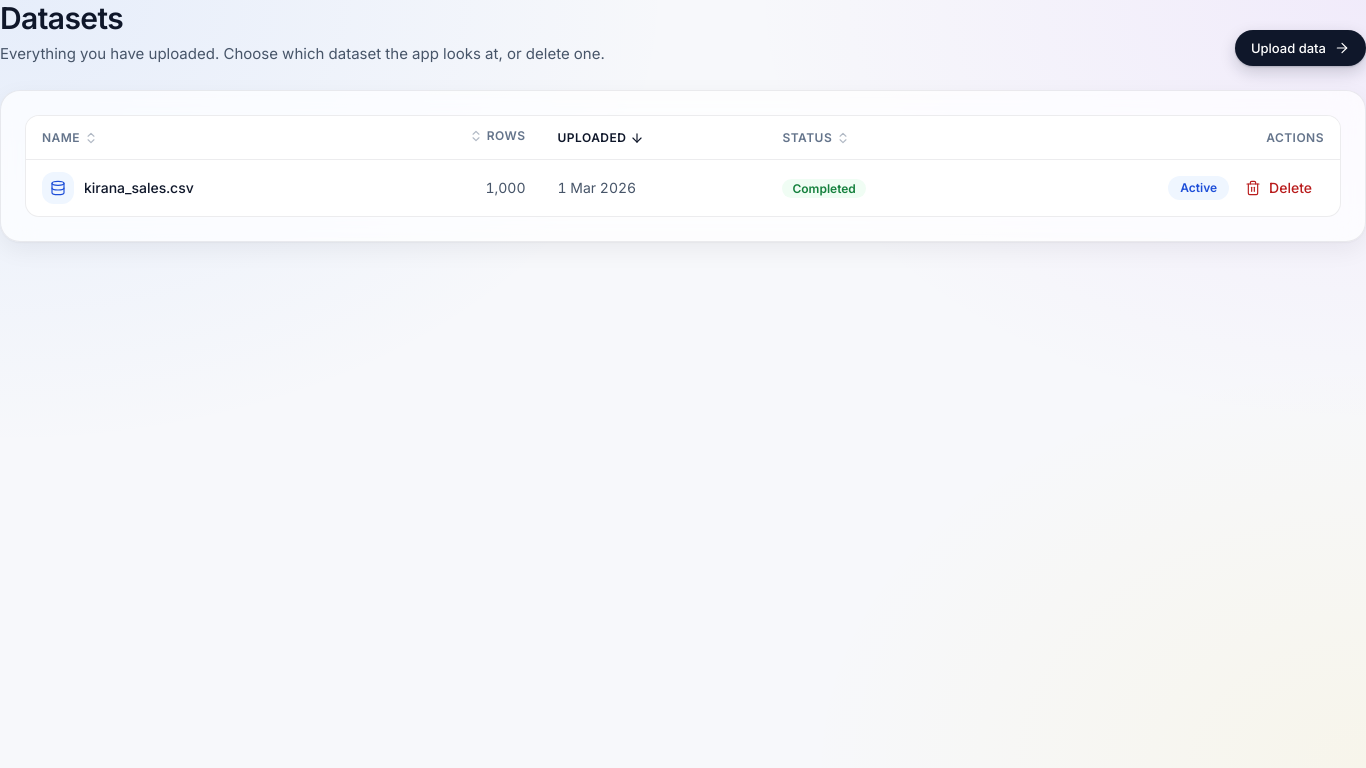
Test: Datasets › Delete: the confirm dialog names the dataset and says its model goes too; Cancel deletes nothing
This screenshot has width=1366, height=768.
Click the button with aria-label "Delete kirana_sales.csv". click: (1279,188)
box: [1233, 172, 1324, 204]
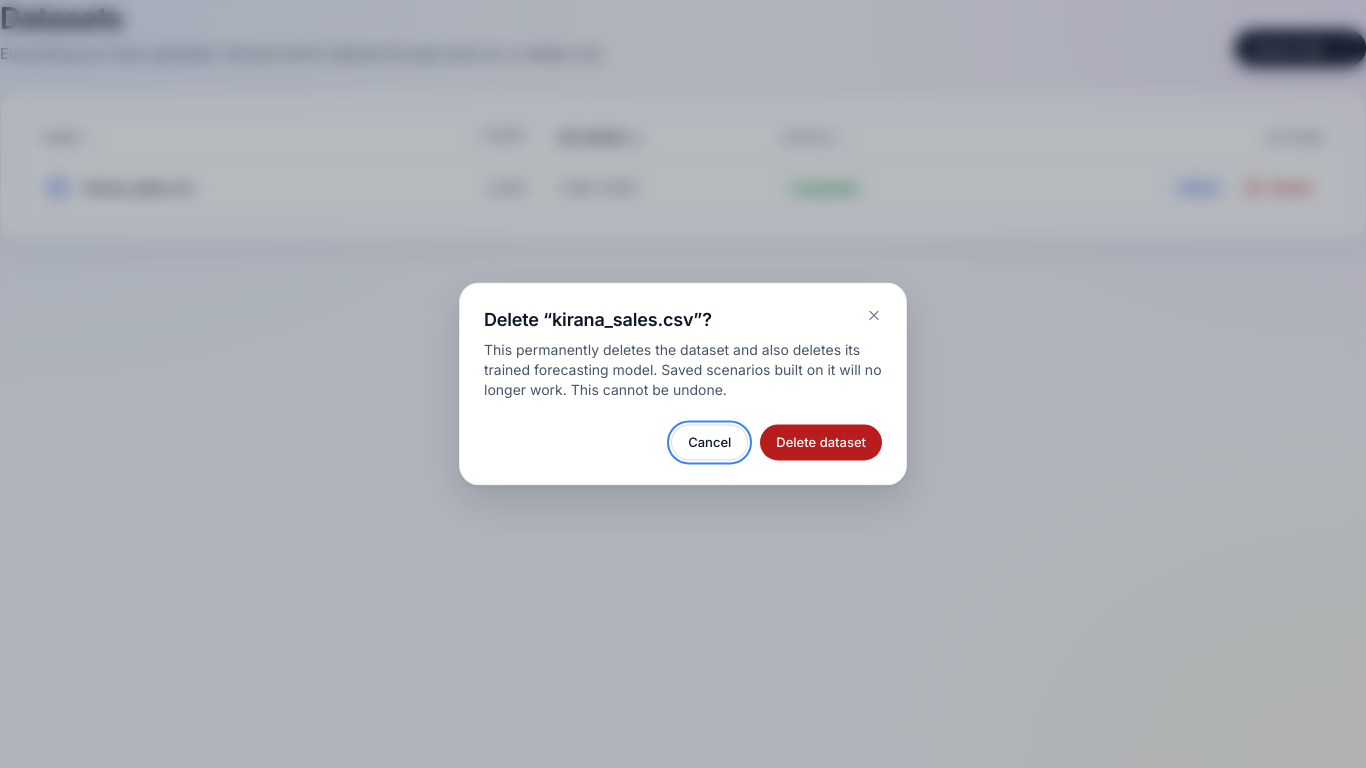
Check: the heading "Delete “kirana_sales.csv”?" is shown, box [484, 309, 712, 330]
Check: the text "also deletes its trained forecasting model" is shown, box [484, 342, 882, 399]
Click the button "Cancel". click: (710,443)
box: [671, 425, 748, 461]
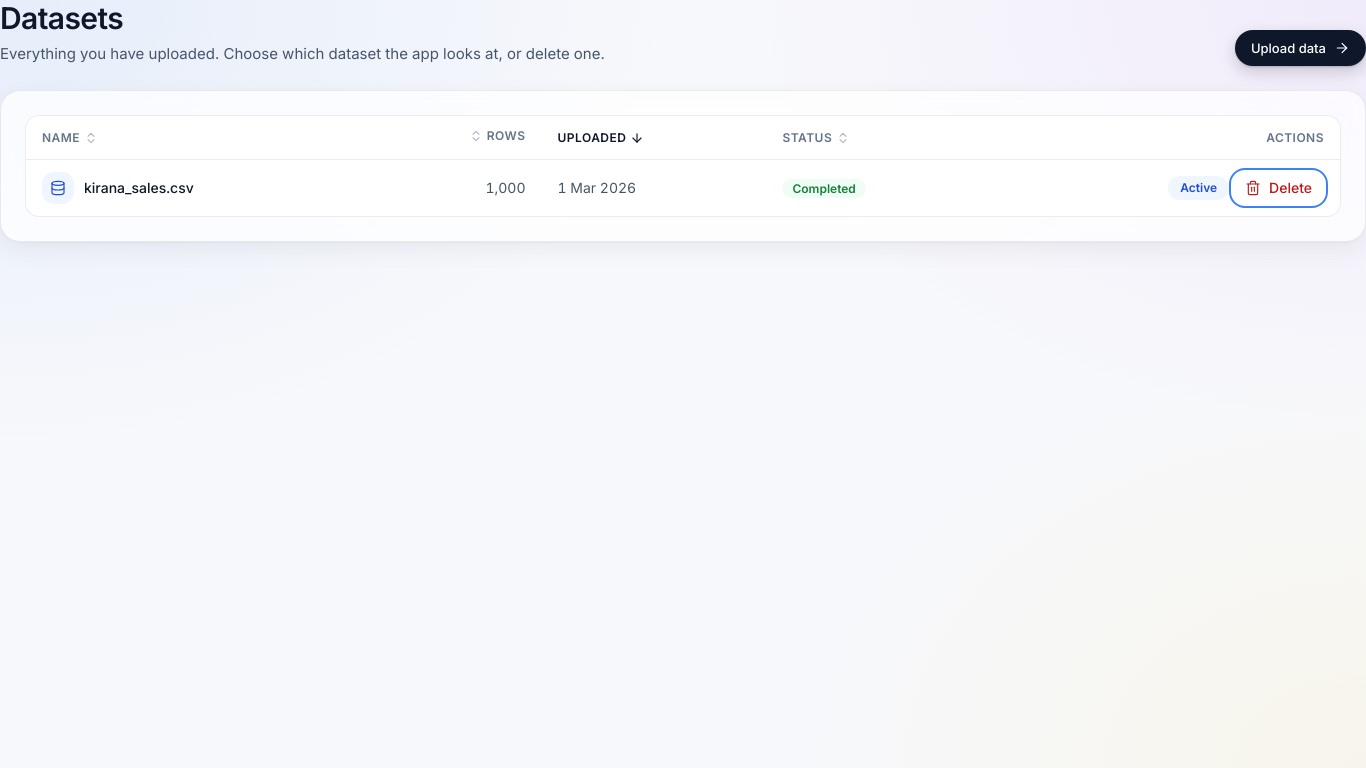
Check: the dialog is gone
